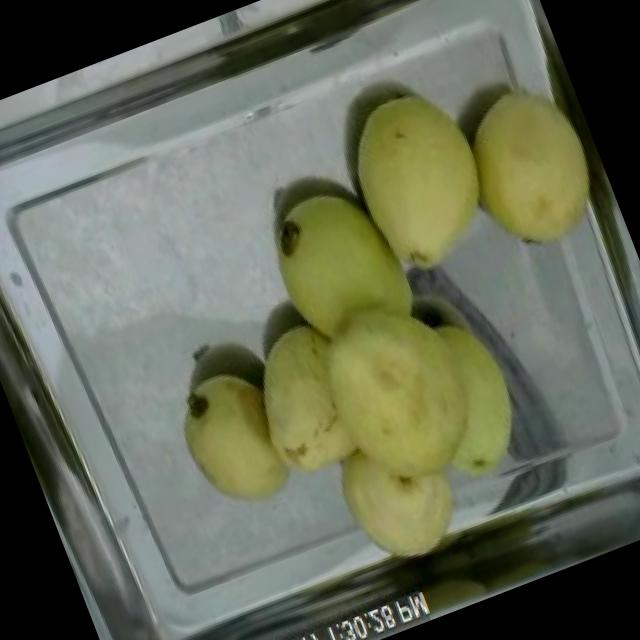Fruit: (257, 245, 573, 588), (322, 67, 524, 300), (434, 62, 626, 280), (246, 163, 434, 363), (157, 350, 309, 529)
